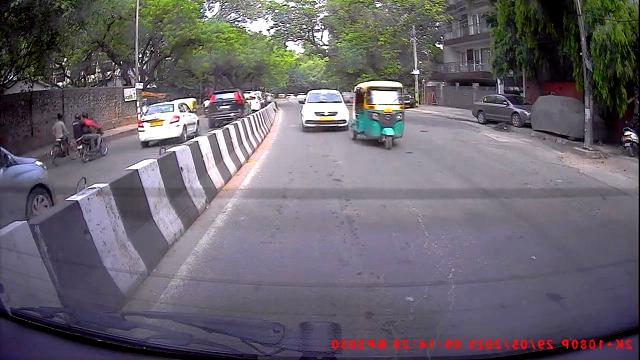motorcycle_with_helmet: (75, 111, 109, 164)
